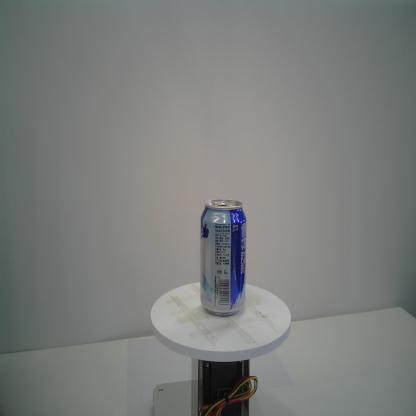Alcohol: (199, 198, 247, 317)
